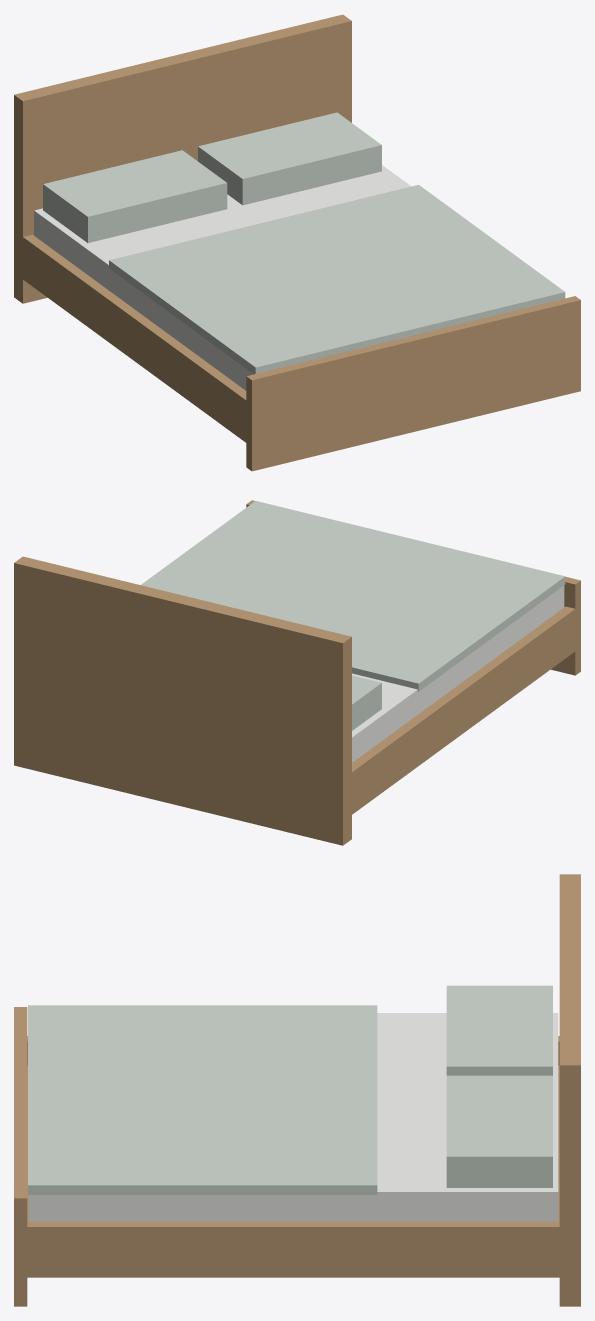
The picture shows the model from 3 angles, top to bottom: view 1: azimuth 30°, elevation 25°; view 2: azimuth 150°, elevation 25°; view 3: azimuth 270°, elevation 25°; orthographic projection. The views are drawn at different scales.
Parts seen in each view (by area): view 1: Frame, Duvet, Pillows, Mattress; view 2: Frame, Duvet, Mattress, Pillows; view 3: Duvet, Frame, Mattress, Pillows.
Part boxes in pixels (<box>): Frame: <box>14,14,580,471</box>; Duvet: <box>109,184,565,374</box>; Pillows: <box>43,112,381,242</box>; Mattress: <box>34,165,411,390</box>; Frame: <box>14,500,580,845</box>; Duvet: <box>141,501,565,691</box>; Mattress: <box>352,585,564,762</box>; Pillows: <box>352,675,381,730</box>; Duvet: <box>28,1005,377,1194</box>; Frame: <box>14,874,580,1306</box>; Mattress: <box>28,1013,558,1221</box>; Pillows: <box>446,985,552,1187</box>.
Bounding box in the file's own units: 1.7 × 1 × 2.13.
